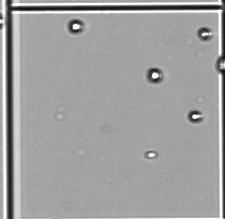Living Cell: (148, 69, 162, 82), (188, 110, 202, 123), (68, 20, 83, 32), (198, 27, 211, 40)
